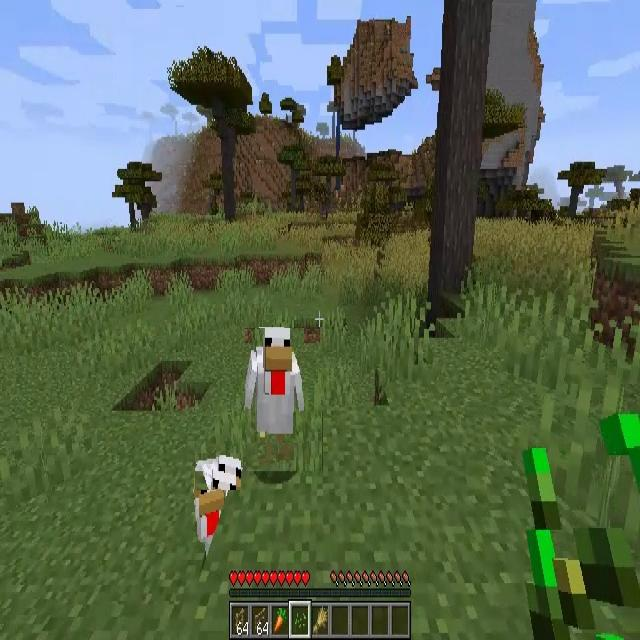duck: (245, 328, 304, 443), (196, 477, 228, 552), (196, 453, 242, 490)
